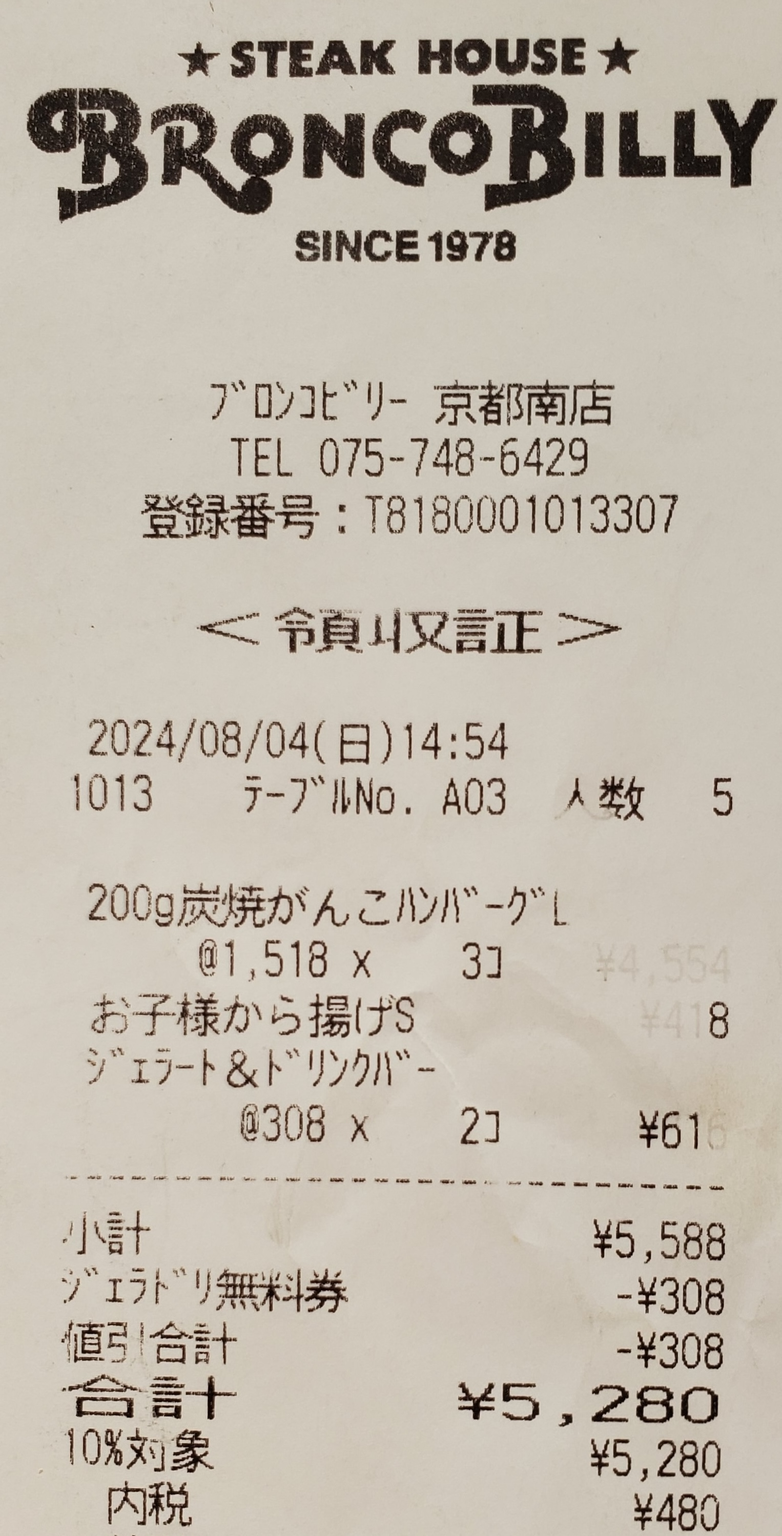Date: (75, 713, 403, 769)
Shopname: (17, 80, 779, 223)
Telnum: (312, 432, 612, 490)
Totalpay: (49, 1373, 748, 1437)
